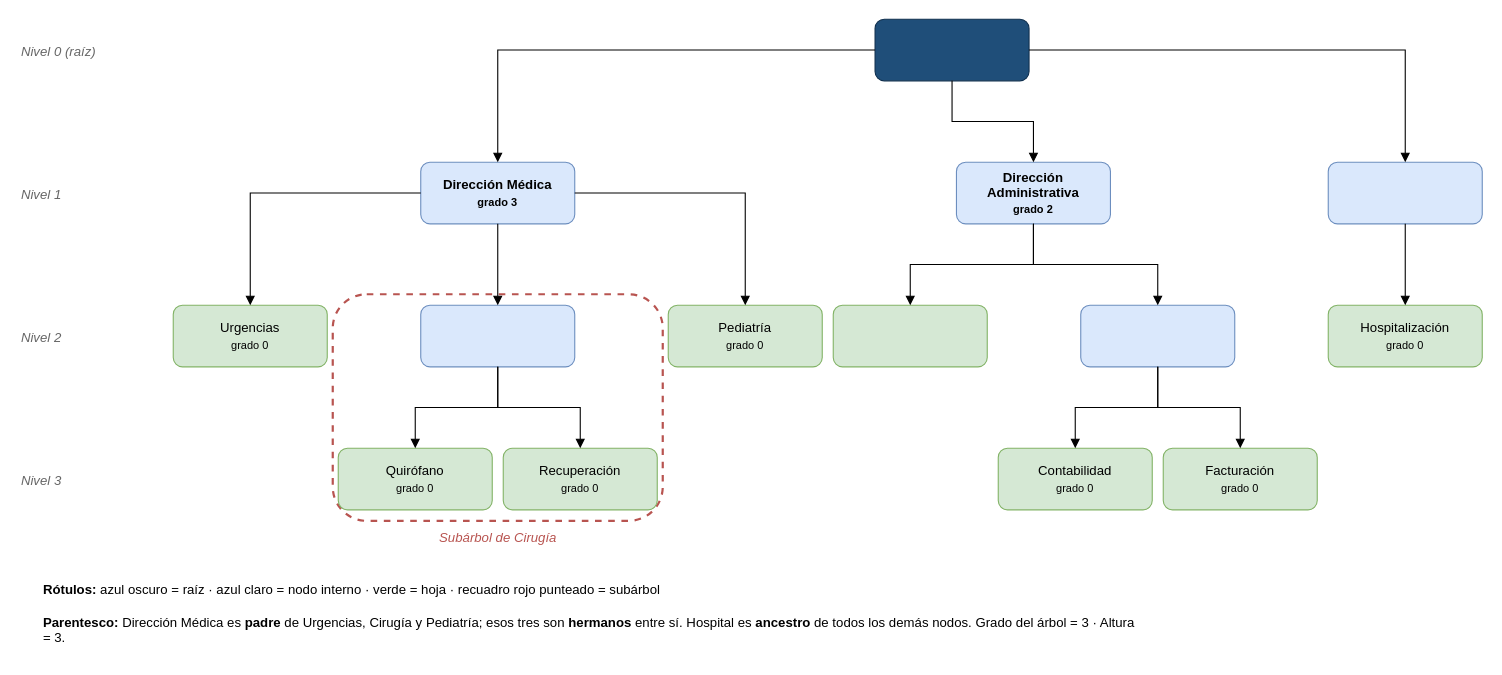
The diagram is 1502 pixels wide and 675 high, and some of its shapes have lost their labels. The centre of each missing label's shape, as x and y in pixels:
"Cirugía grado 2" belongs at (497,335).
"Dirección de Enfermería grado 1" belongs at (1404,192).
"Finanzas grado 2" belongs at (1157,335).
"Hospital grado 3" belongs at (951,49).
"Talento Humano grado 0" belongs at (909,335).
